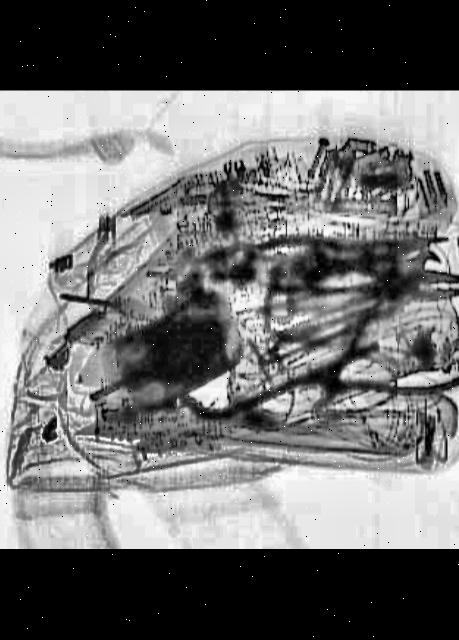Pliers: (272, 291, 459, 441), (311, 258, 459, 319)
